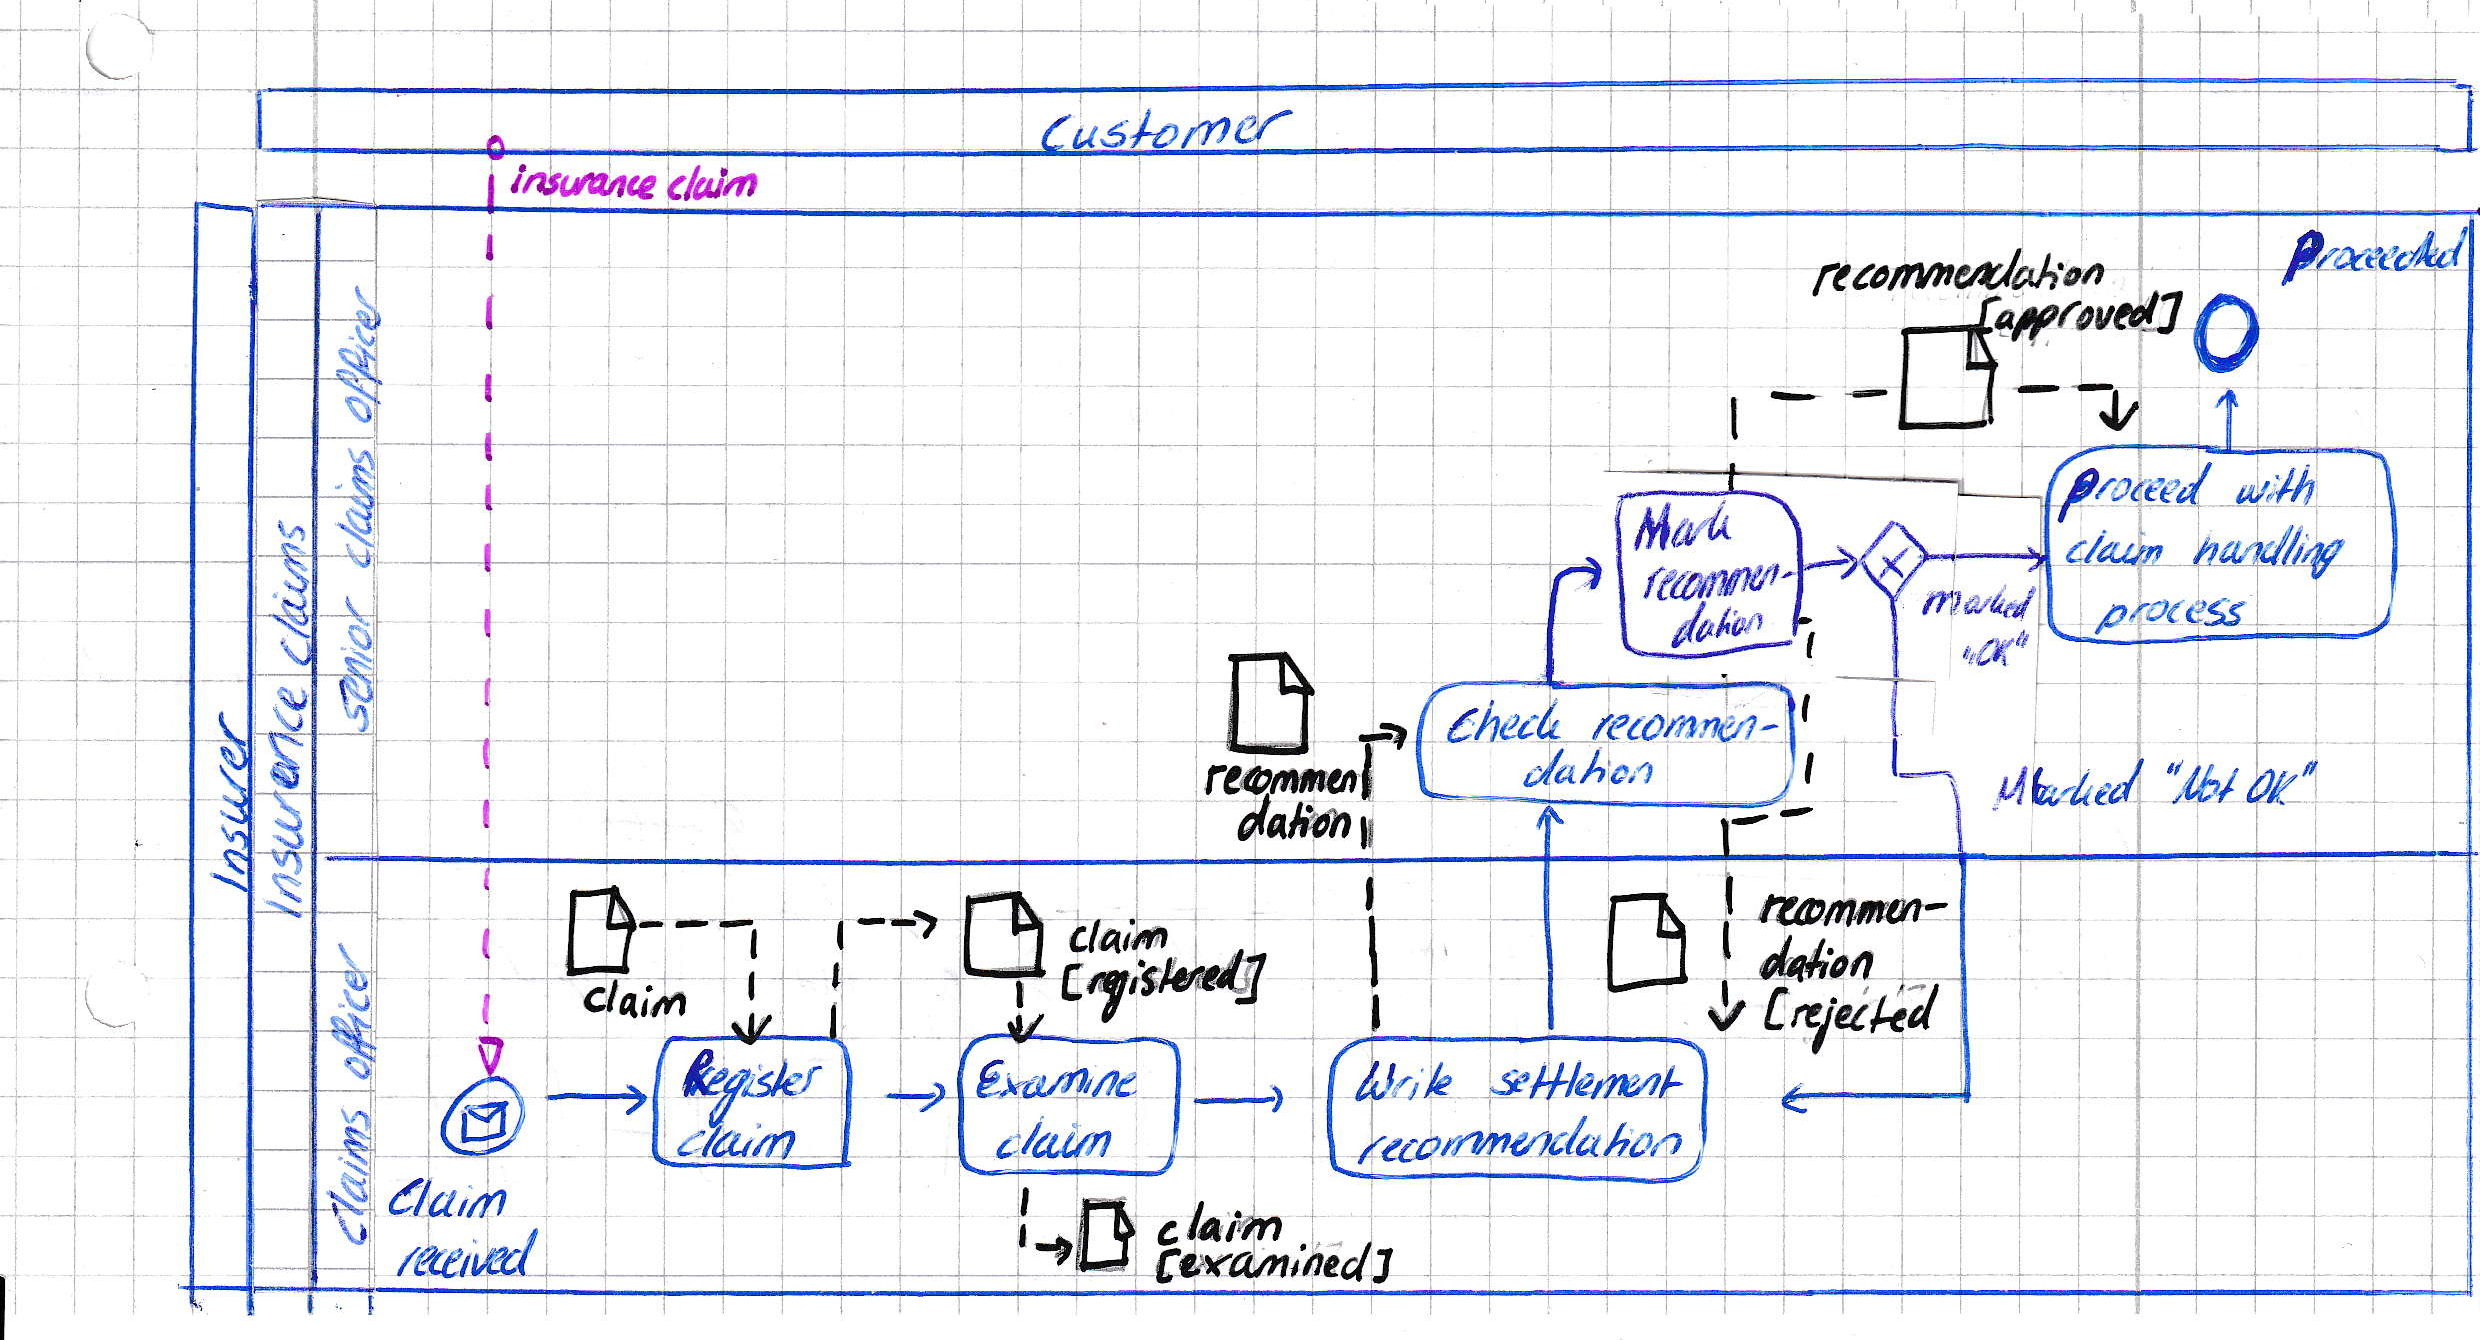Check: (1437, 691, 1569, 751)
Claim: (378, 1168, 515, 1226)
Examine: (967, 1051, 1148, 1107)
Insurance: (252, 675, 315, 927)
Insurer: (201, 703, 259, 903)
Mark: (1625, 493, 1741, 559)
Marked: (1982, 748, 2152, 820)
Not: (2158, 754, 2246, 812)
OK: (2242, 754, 2327, 814), (1955, 625, 2038, 673)
Proceeded: (2274, 219, 2475, 295)
Register: (675, 1043, 832, 1135)
Write: (1346, 1055, 1459, 1111)
[approved]: (1972, 284, 2191, 350)
[examined]: (1147, 1233, 1401, 1290)
[registered]: (1053, 942, 1274, 1030)
[rejected: (1756, 977, 1945, 1063)
claim: (1148, 1193, 1290, 1253), (988, 1107, 1120, 1167), (576, 970, 695, 1028), (668, 1114, 804, 1163), (2058, 523, 2171, 574), (1059, 913, 1176, 960), (660, 160, 766, 208)
claims: (318, 1097, 383, 1253), (261, 512, 322, 673), (328, 441, 384, 578)
customer: (1031, 99, 1307, 163)
dation: (1751, 927, 1883, 992), (1229, 786, 1360, 848), (1516, 739, 1662, 794), (1662, 592, 1770, 657)
handling: (2185, 518, 2353, 587)
insurance: (502, 157, 663, 205)
marked: (1916, 574, 2043, 630)
officer: (322, 934, 386, 1088), (328, 277, 389, 432)
proceed: (2051, 454, 2219, 531)
process: (2087, 591, 2256, 640)
received: (389, 1220, 548, 1286)
recommen: (1196, 757, 1365, 804)
recommen-: (1751, 885, 1957, 936), (1584, 701, 1785, 749), (1635, 556, 1803, 609)
recommendation: (1346, 1107, 1691, 1172), (1803, 243, 2112, 305)
senior: (332, 587, 383, 739)
settlement: (1483, 1053, 1691, 1107)
with: (2228, 459, 2323, 513)
